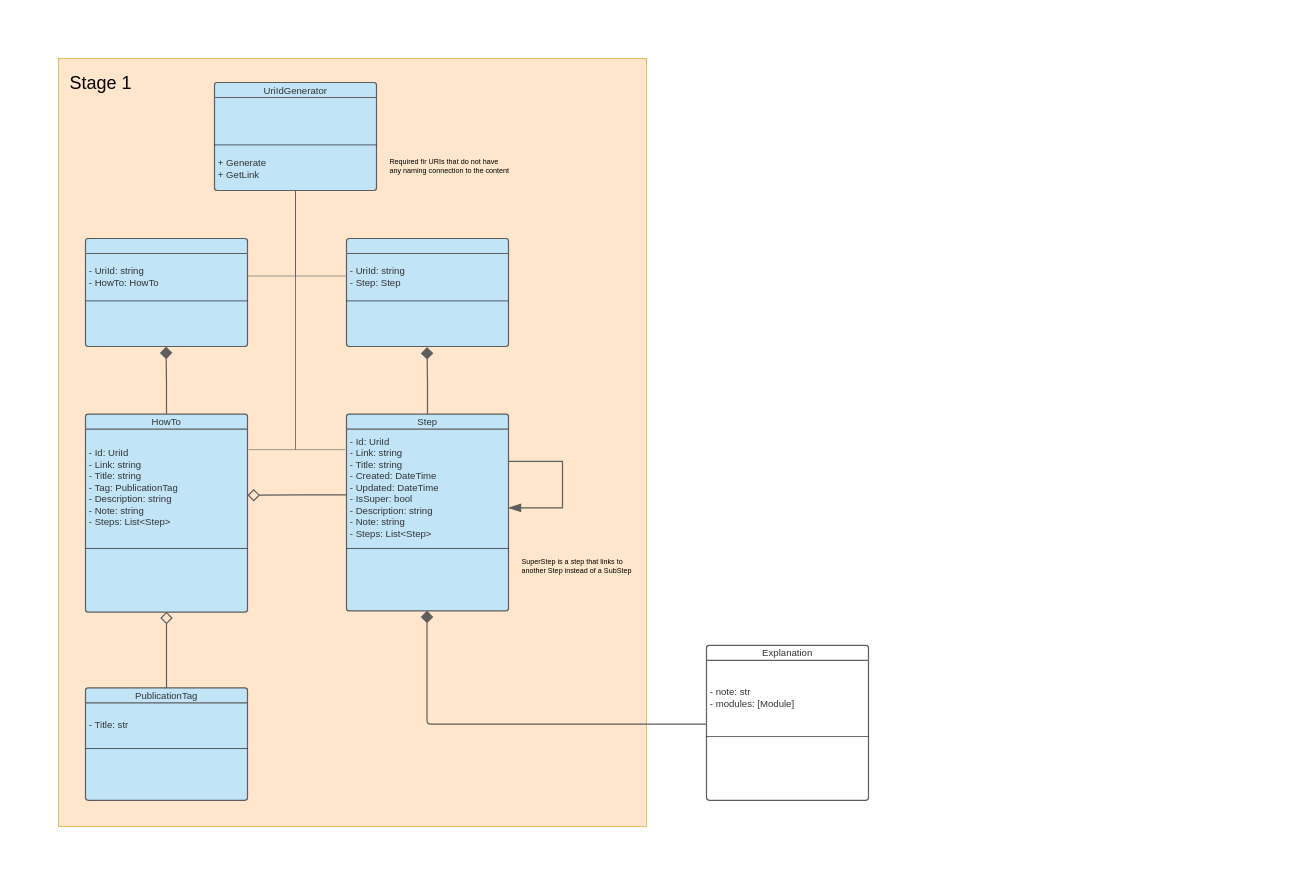
This 1316x884 diagram has some shape labels left out. The shapes that lost their labels are listed below. From the top down, each one's box as (x1, y1, x2, y2) in pixels, then its label:
(85, 238, 248, 347): HowToUriId
(346, 238, 509, 347): StepUriId
